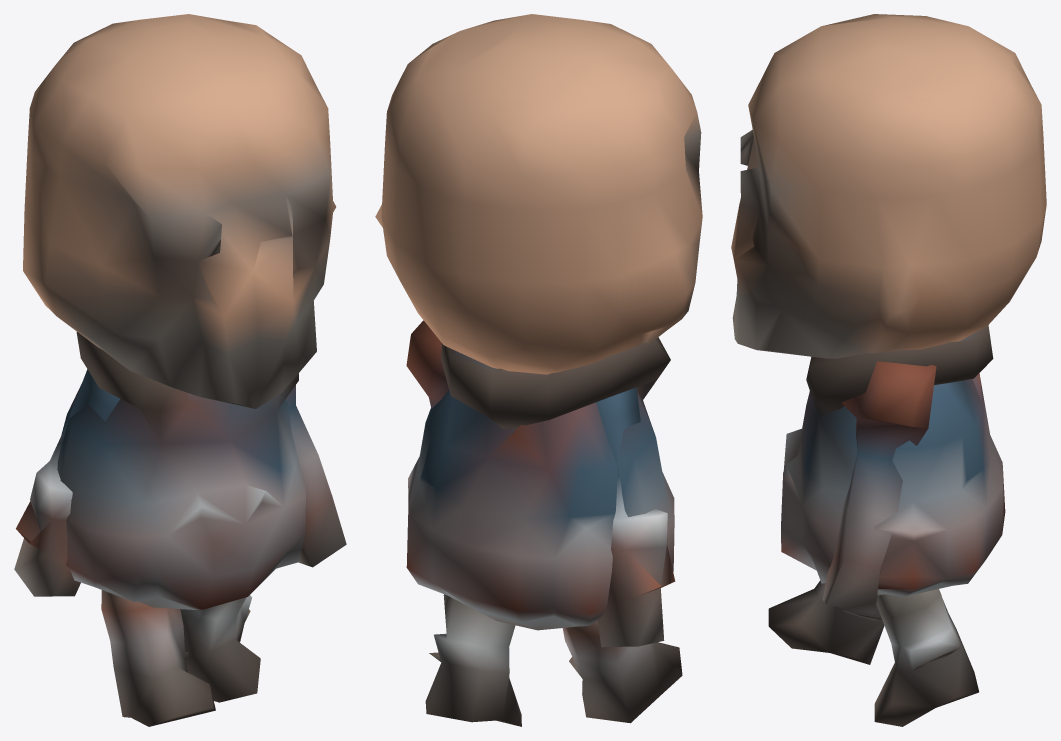
The model's file is char2-nam-2.glb.
3 views of the same model, side by side, from view 1: azimuth 30°, elevation 25°; view 2: azimuth 150°, elevation 25°; view 3: azimuth 270°, elevation 25° (orthographic). The views are drawn at different scales.
Visible parts, largest first — view 1: char; view 2: char; view 3: char.
Part boxes in pixels (bbox=[...]): char: bbox=[14, 14, 346, 726]; char: bbox=[375, 14, 702, 726]; char: bbox=[731, 14, 1046, 726].
Bounding box in the file's own units: 1.04 × 2.18 × 0.9557.
